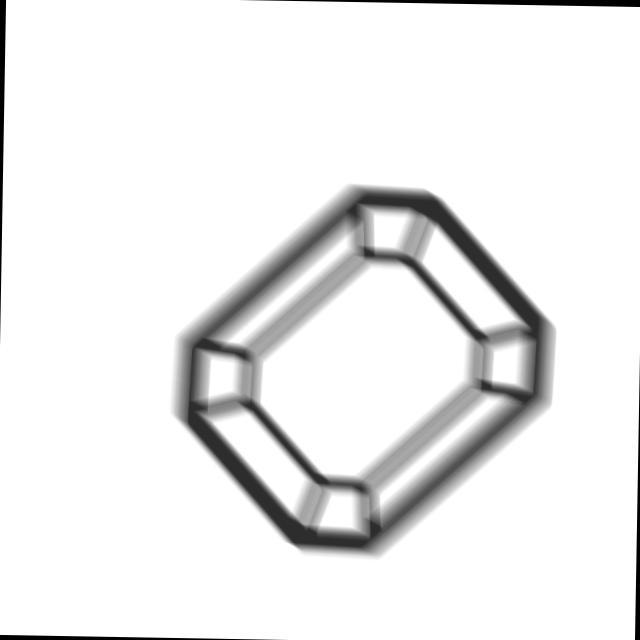emerald: (164, 174, 567, 571)
